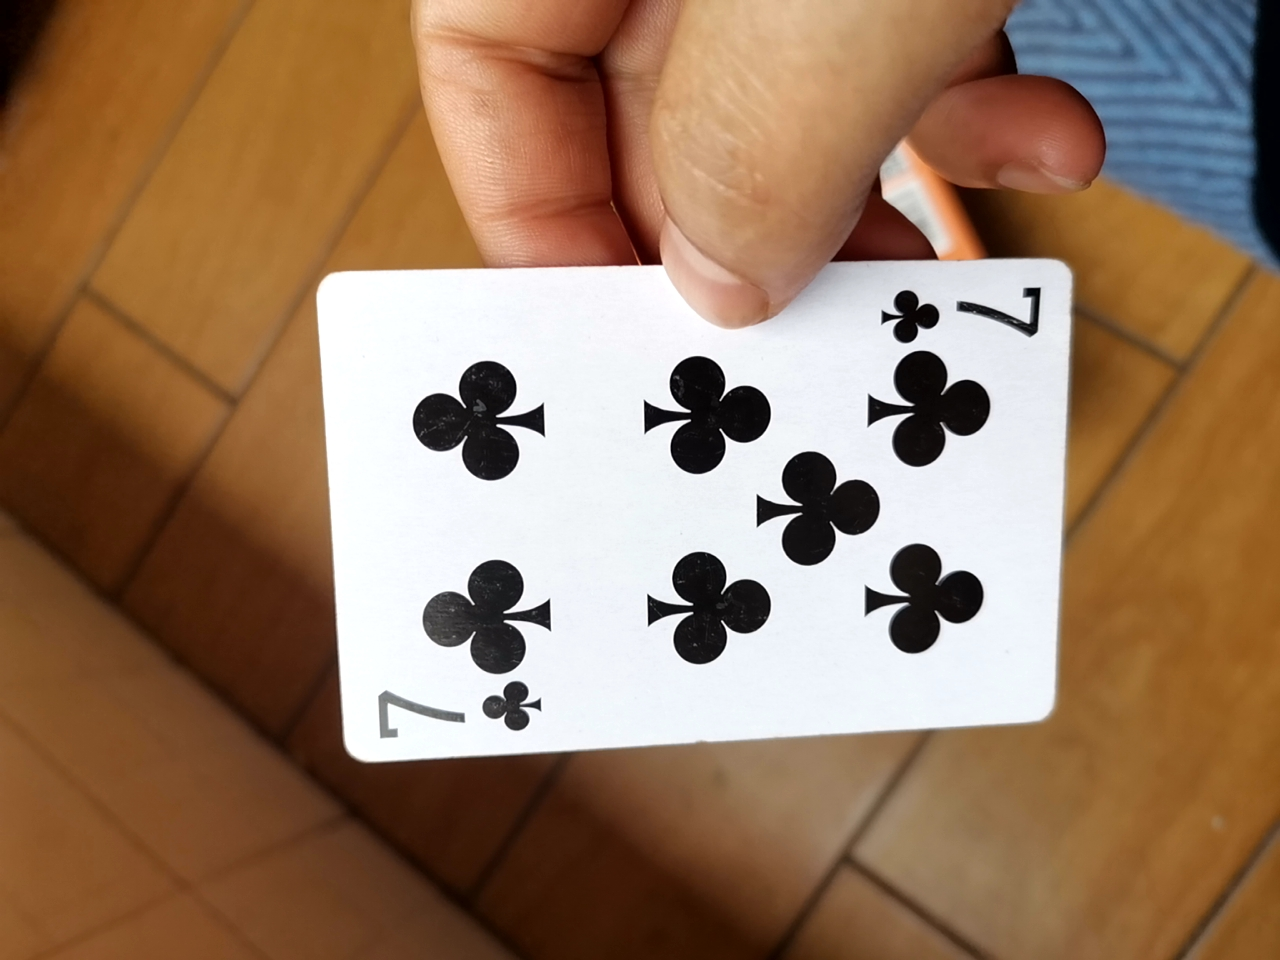mh 7: (291, 260, 1089, 781)
